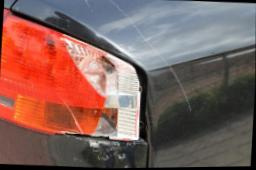Bumper: (74, 135, 148, 167)
Fender: (14, 0, 206, 128)
Light: (0, 13, 142, 140)
